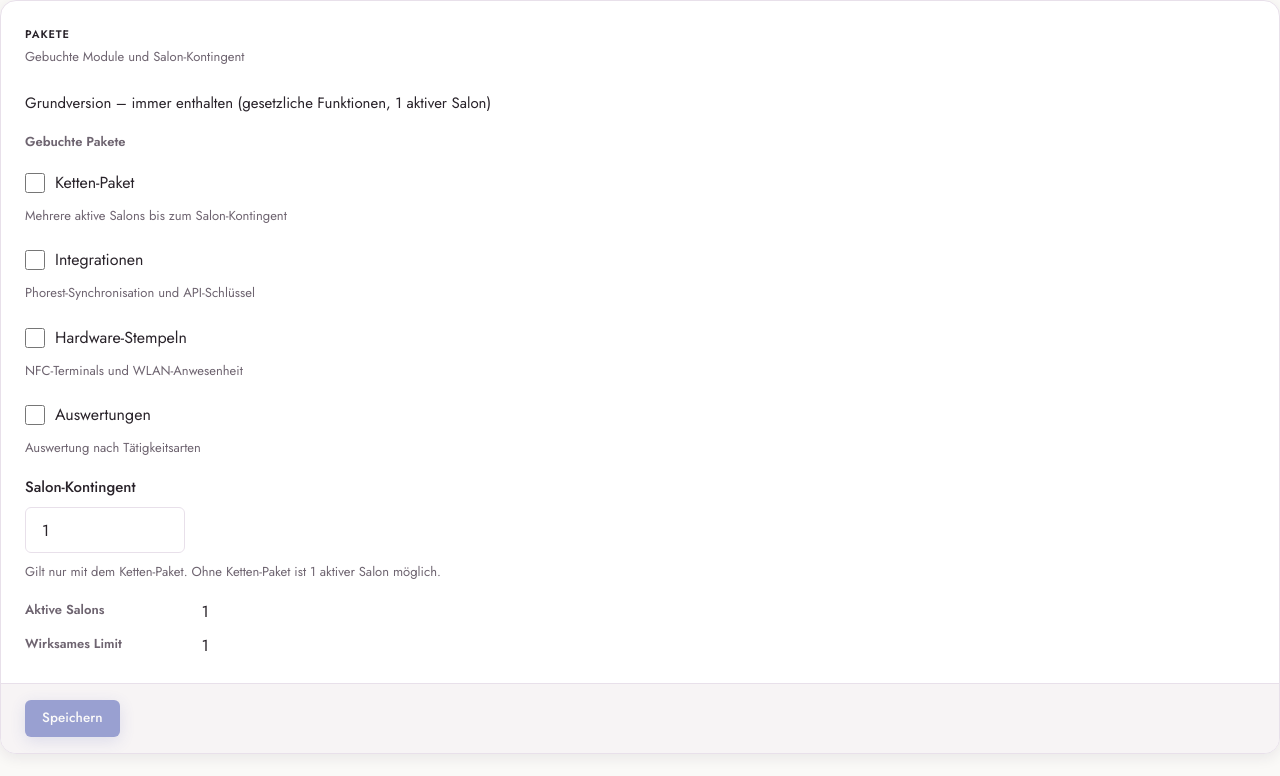
PackagesSection › an unknown refusal shows the server's German sentence
This screenshot has width=1280, height=776.
Click the checkbox labelled "Integrationen".
click(35, 260)  # box [25,250,45,270]
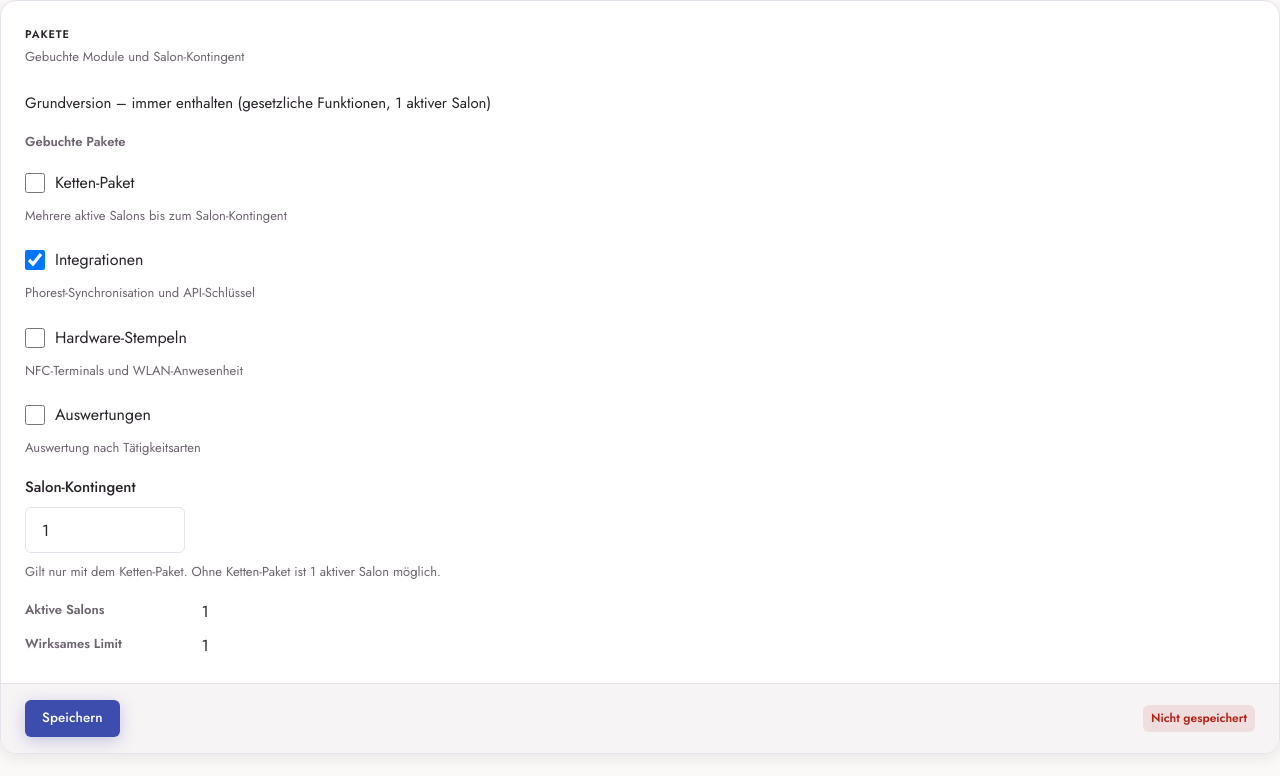
Click the button "Speichern".
click(72, 718)  # box [25,700,120,736]
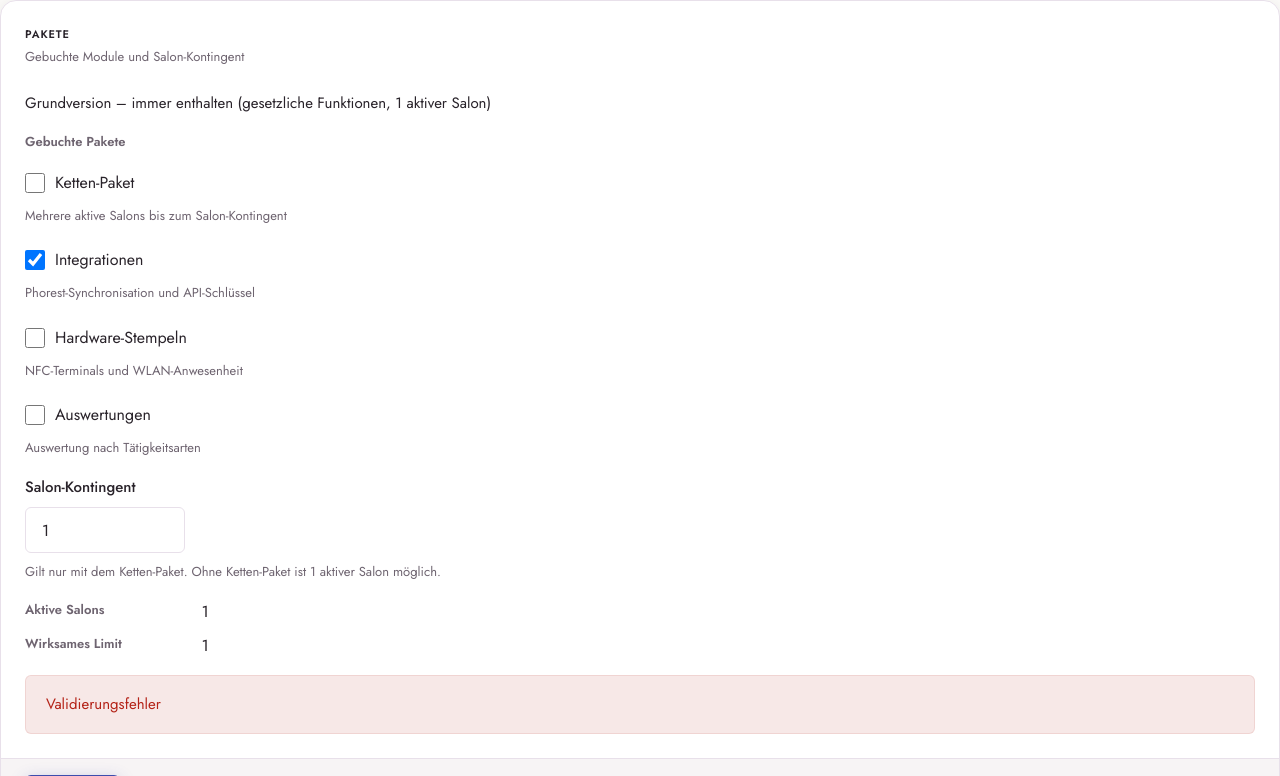
Now the message "Validierungsfehler" is shown, box [25,675,1255,734]
